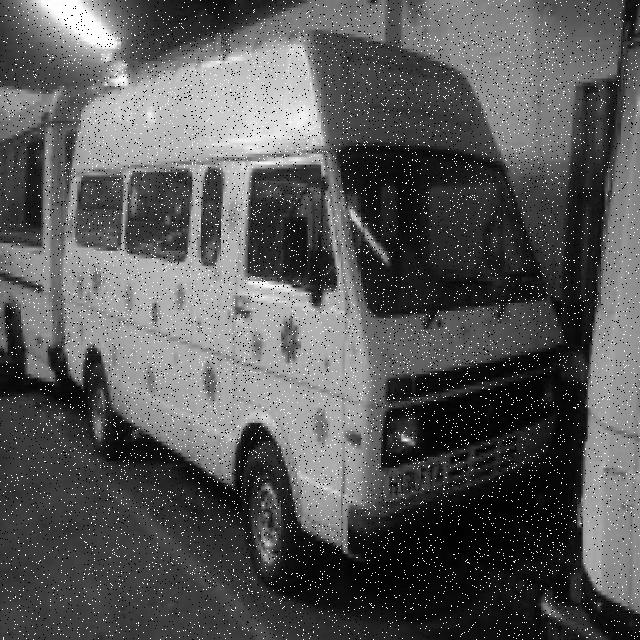Van: (61, 32, 569, 592)
